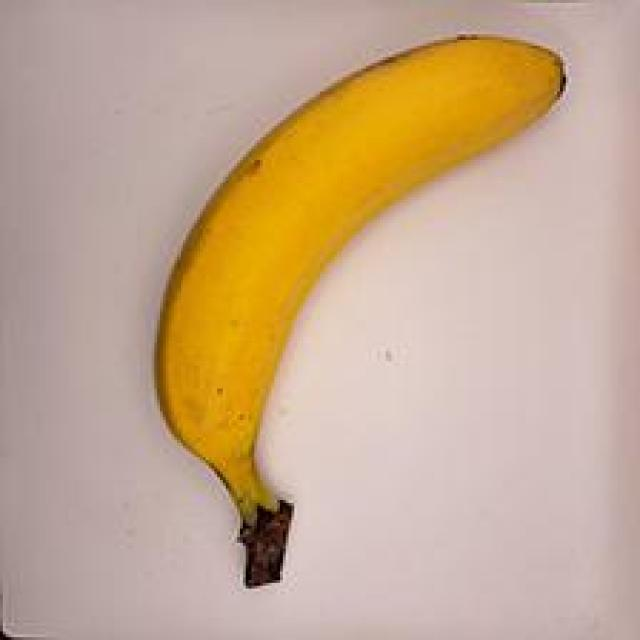Ripe: (107, 12, 590, 585)
